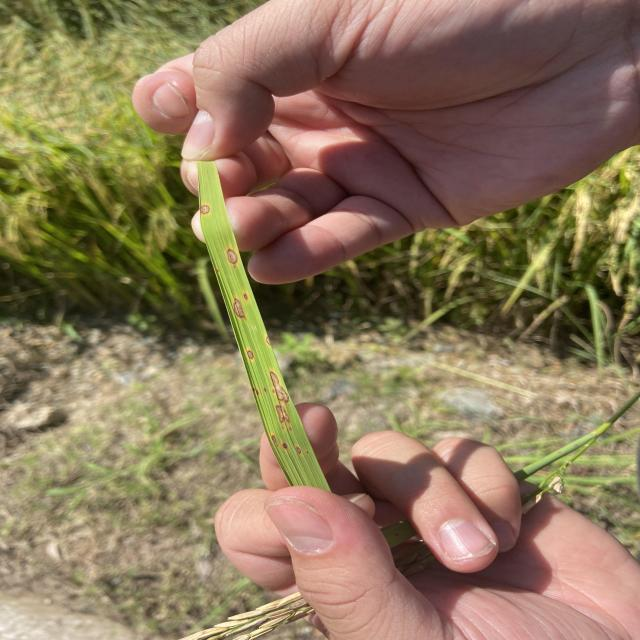Dao on: (270, 371, 289, 402), (233, 299, 246, 319), (276, 405, 289, 423), (227, 249, 238, 264), (200, 205, 210, 214), (247, 350, 254, 359), (266, 336, 271, 345), (271, 435, 276, 443), (297, 447, 301, 453), (283, 443, 287, 449), (244, 294, 248, 299), (289, 426, 292, 431), (272, 389, 275, 393)
